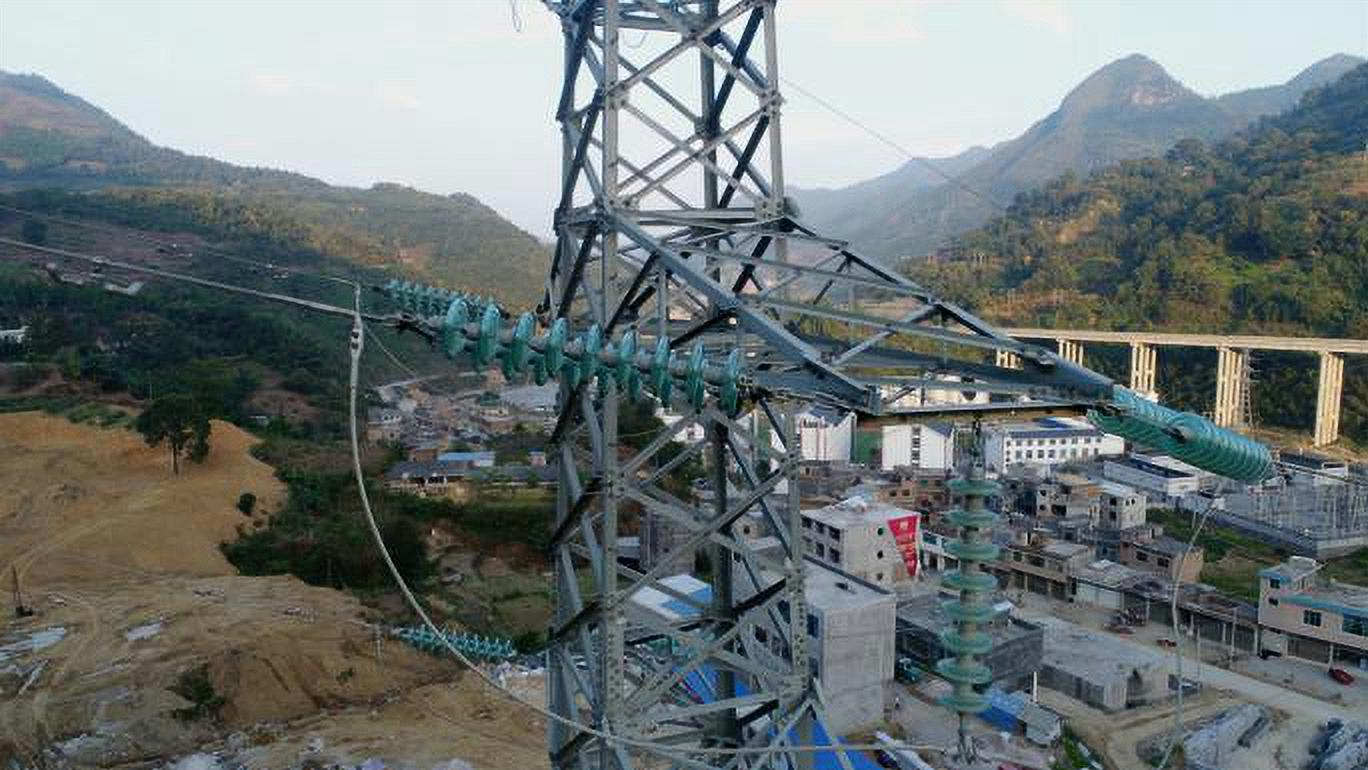insulator: (439, 293, 749, 421), (1083, 381, 1280, 488), (932, 472, 1003, 719), (381, 275, 499, 322), (406, 620, 514, 667)
